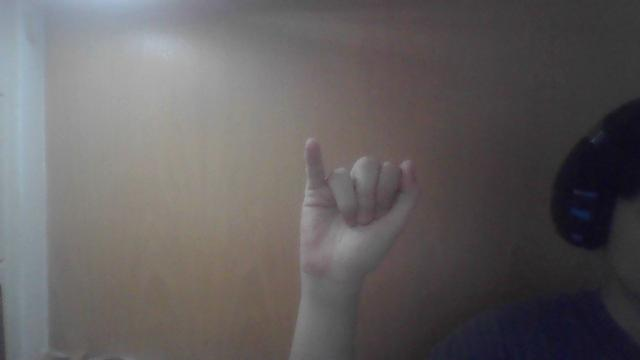Right: (291, 132, 429, 282)
